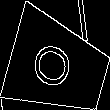O_E: (32, 38, 84, 95)
